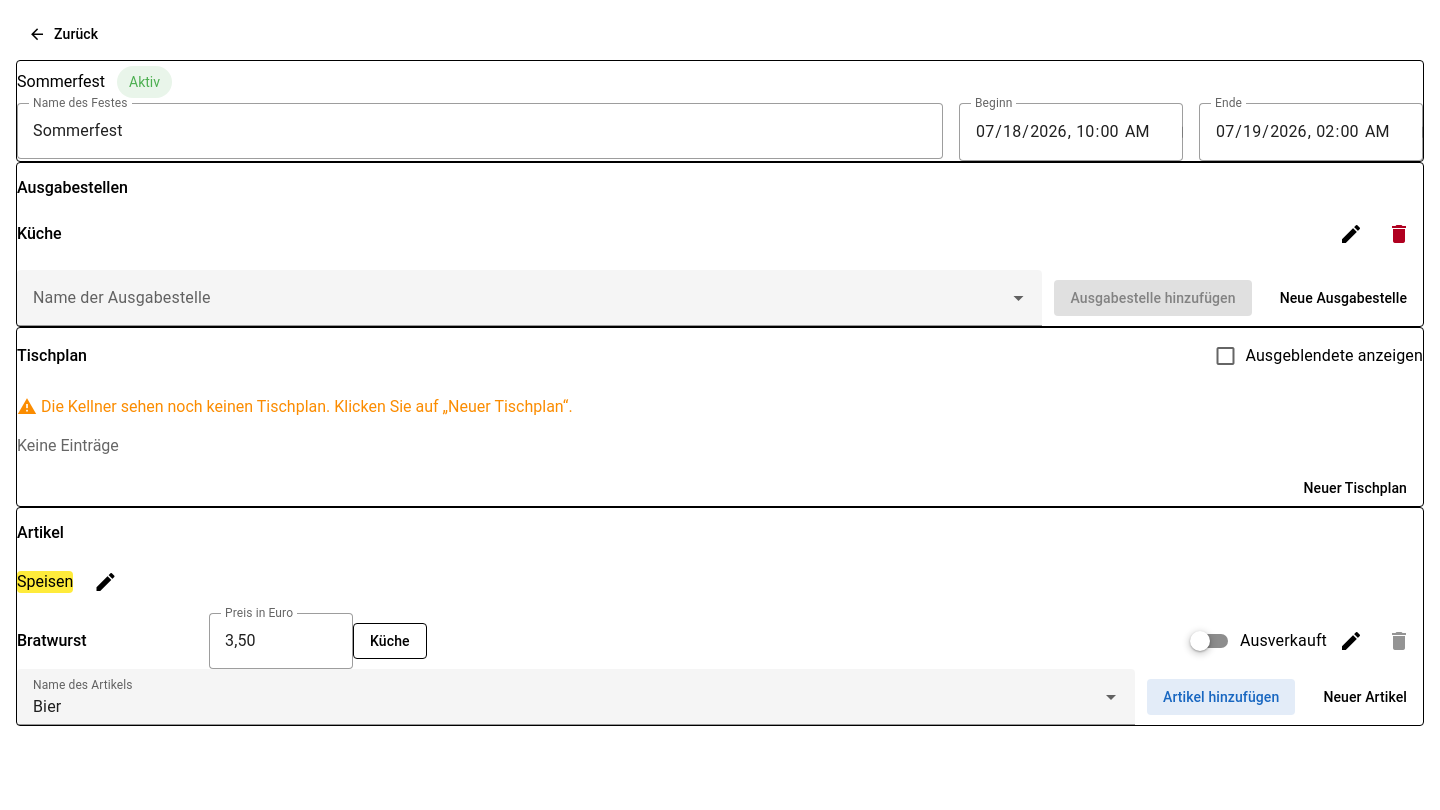
Test: the items of this festival › refuses a missing price and a missing station in the dialog, naming the item
Expected: the element with test id "item-search" is shown, [17,669,1135,725]
What coordinates should you click on to do the following:
click the button with test id "add-item"
I would click on:
 (1221, 697)
Its box is [1147,679,1295,715].
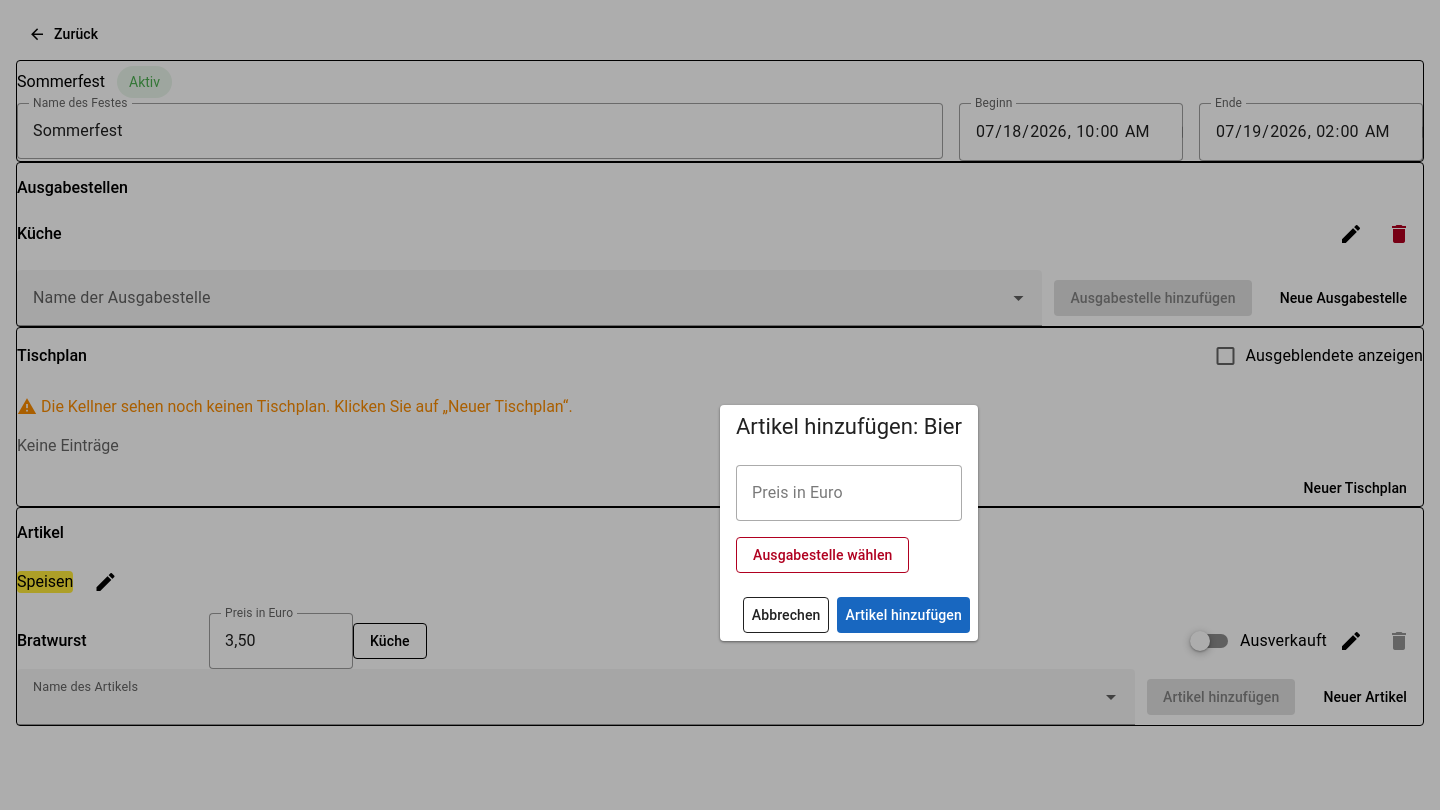
Expected: the text with test id "form-dialog-title" shows "Bier", [736,414,962,439]
What coordinates should you click on to do the following:
click the button with test id "form-save"
I would click on:
 (904, 615)
Its box is [838,597,970,633].
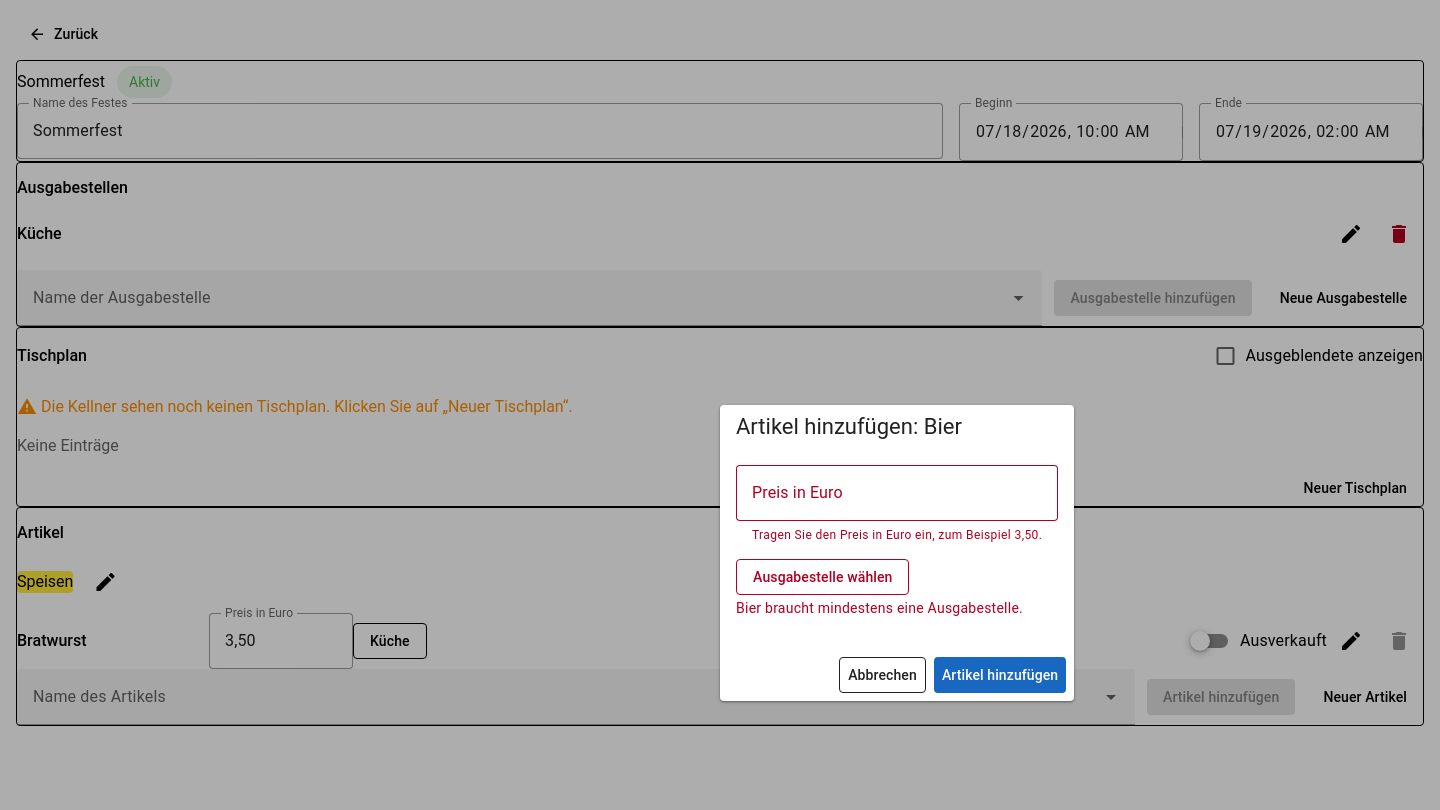
Expected: the text "Tragen Sie den Preis in Euro ein, zum Beispiel 3,50." is shown, [752,529,1042,541]
Expected: the text with test id "station-select-error" reads "Bier braucht mindestens eine Ausgabestelle.", [736,600,1023,616]
